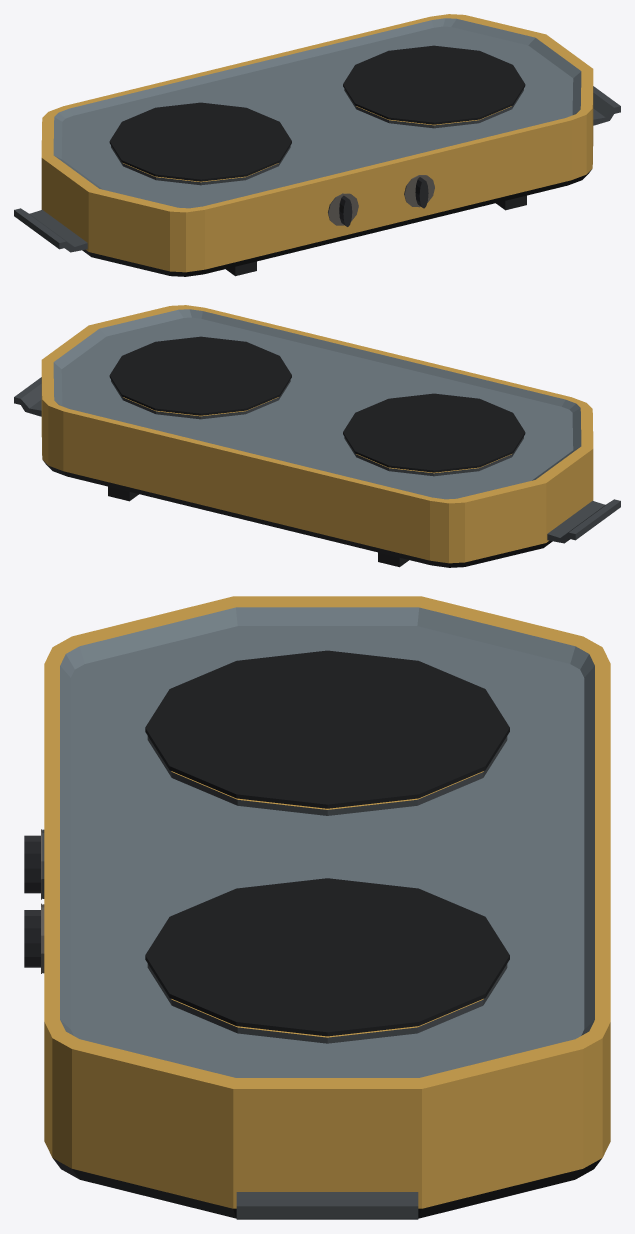
File: tabletopgasstove_01_D.gltf
3 views of the same model, one above another, from view 1: azimuth 30°, elevation 25°; view 2: azimuth 150°, elevation 25°; view 3: azimuth 270°, elevation 25° (orthographic). The views are drawn at different scales.
Parts seen in each view (by area): view 1: tabletopgasstove_01_D; view 2: tabletopgasstove_01_D; view 3: tabletopgasstove_01_D, switchfortabletopgasstove_01_D, switchfortabletopgasstove_02_D.
Boxes of the visible parts, x1=… form: tabletopgasstove_01_D: x1=14, y1=14, x2=620, y2=276; tabletopgasstove_01_D: x1=14, y1=305, x2=620, y2=567; tabletopgasstove_01_D: x1=41, y1=596, x2=610, y2=1219; switchfortabletopgasstove_01_D: x1=24, y1=835, x2=40, y2=893; switchfortabletopgasstove_02_D: x1=24, y1=910, x2=40, y2=967.
Bounding box in the file's own units: 0.687 × 0.0952 × 0.3107.
Materials: 1 (1 with a texture image).
